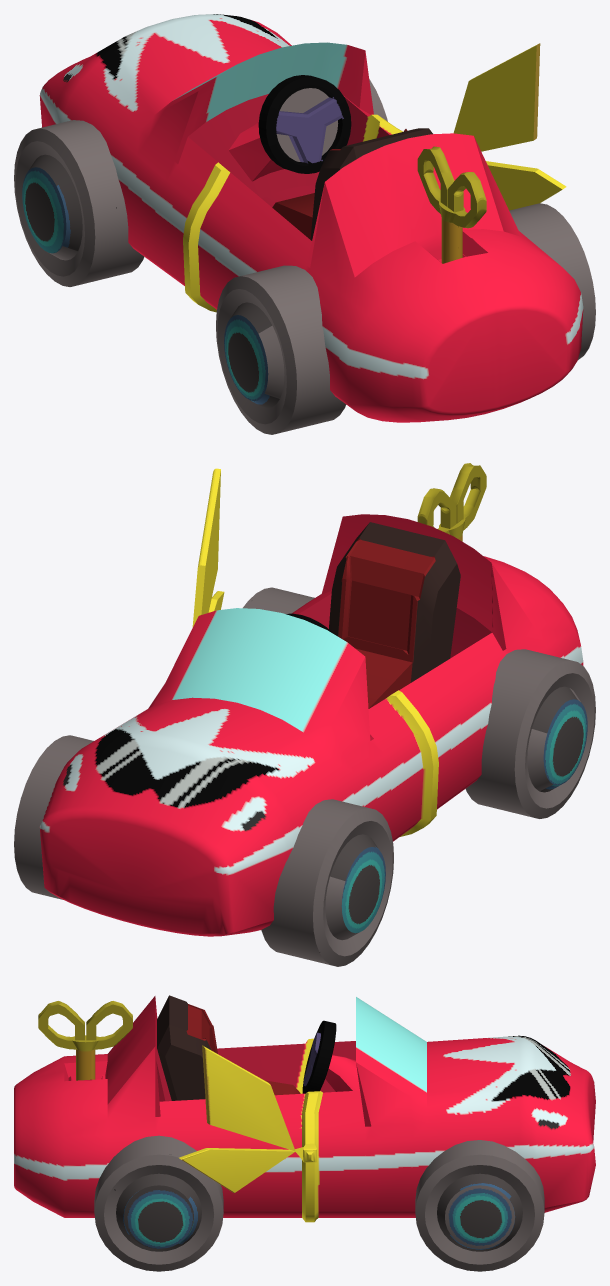
Rendered from boostKartMegaKart_V2(22-03-28).fbx.
3 views of the same model, one above another, from view 1: azimuth 30°, elevation 25°; view 2: azimuth 150°, elevation 25°; view 3: azimuth 270°, elevation 25° (orthographic). The views are drawn at different scales.
Visible parts, largest first — view 1: chasse, tireFront2, tireBack2, wheel, Cylinder, tireFront1, seat, chasse.001; view 2: chasse, seat, tireFront2, tireBack2, tireBack1, Cylinder, tireFront1; view 3: chasse, tireBack1, tireFront1, seat, Cylinder, wheel, chasse.001.
Part boxes in pixels (x1,y1,x2,y2): chasse: [39, 14, 583, 422]; tireFront2: [216, 265, 346, 434]; tireBack2: [14, 120, 144, 286]; wheel: [258, 75, 351, 173]; Cylinder: [417, 146, 486, 263]; tireFront1: [509, 203, 595, 359]; seat: [272, 128, 432, 240]; chasse.001: [228, 122, 283, 181]; chasse: [39, 468, 583, 936]; seat: [329, 522, 460, 708]; tireFront2: [465, 649, 595, 818]; tireBack2: [261, 799, 393, 966]; tireBack1: [14, 735, 93, 899]; Cylinder: [417, 463, 486, 541]; tireFront1: [243, 587, 314, 613]; chasse: [14, 996, 595, 1222]; tireBack1: [415, 1140, 544, 1271]; tireFront1: [94, 1135, 223, 1271]; seat: [157, 995, 300, 1100]; Cylinder: [38, 1001, 132, 1080]; wheel: [302, 1020, 336, 1093]; chasse.001: [325, 1055, 359, 1091].
Bounding box in the file's own units: 400 × 328 × 753.
